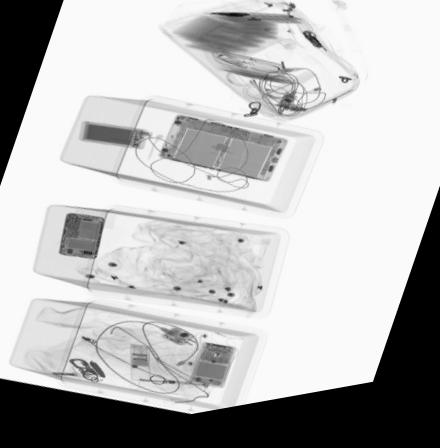Powerbank: (75, 123, 148, 156)
